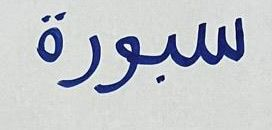beh: (143, 27, 181, 89)
reh: (65, 31, 101, 83)
seen: (185, 17, 249, 70)
teh_marbota: (31, 10, 63, 69)
waw: (103, 32, 141, 95)
